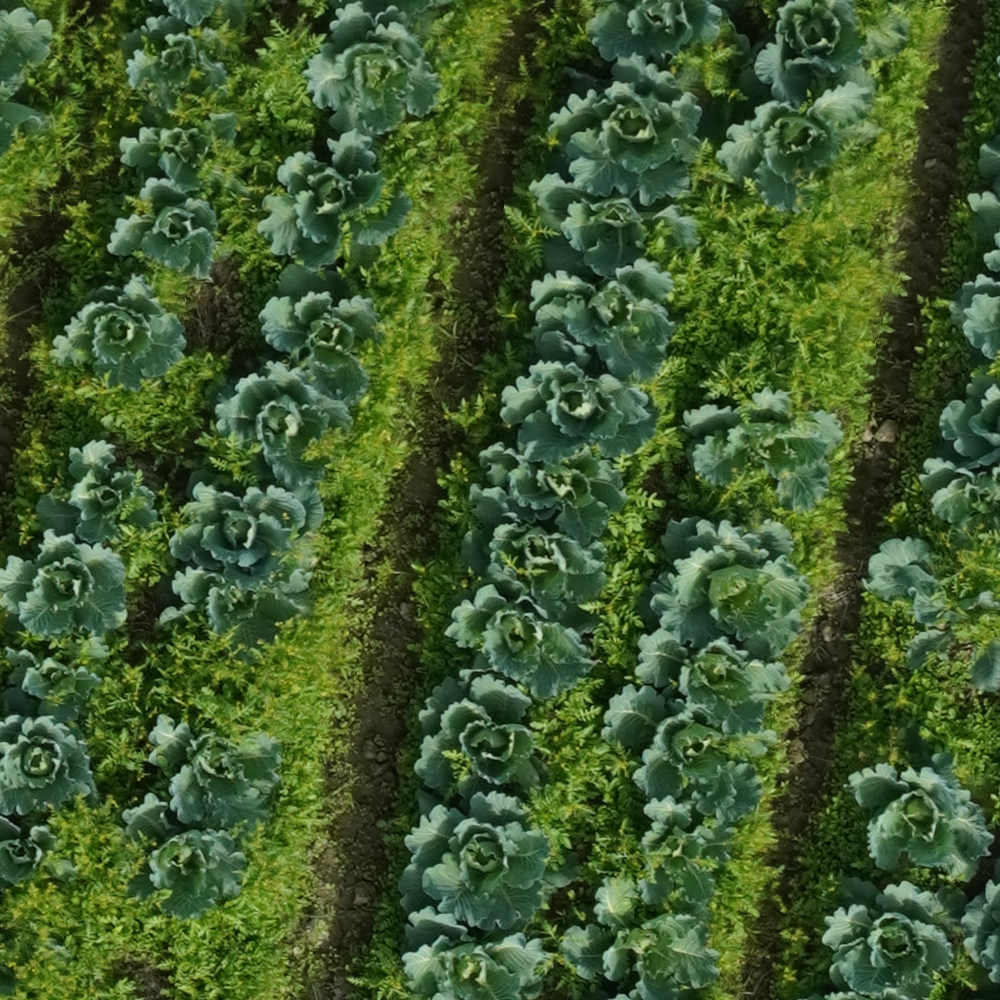Cabbage: (398, 789, 584, 932), (601, 683, 777, 824), (549, 53, 707, 206), (649, 516, 813, 660), (460, 483, 609, 635), (256, 129, 414, 272), (443, 563, 601, 700), (500, 330, 660, 465), (861, 537, 1000, 692), (717, 84, 881, 213), (558, 872, 723, 1000), (681, 387, 844, 515), (415, 667, 551, 811), (849, 751, 995, 883), (168, 469, 323, 593), (302, 1, 444, 136), (529, 259, 677, 388), (215, 350, 354, 487), (529, 172, 701, 278), (821, 877, 967, 1000), (741, 2, 911, 106), (259, 264, 383, 406), (633, 629, 794, 736), (48, 272, 187, 394), (146, 714, 282, 836), (160, 566, 320, 667), (123, 792, 248, 920), (479, 442, 629, 546), (399, 906, 557, 999), (0, 529, 127, 641), (118, 15, 237, 128), (36, 440, 159, 545), (107, 177, 223, 284), (634, 795, 738, 912), (585, 0, 751, 71), (119, 112, 249, 194), (0, 714, 99, 817), (1, 638, 112, 725), (0, 7, 52, 159), (936, 371, 1000, 469), (918, 457, 1000, 533), (1, 816, 80, 889), (948, 274, 1000, 360), (961, 879, 1000, 984), (164, 0, 253, 37)
